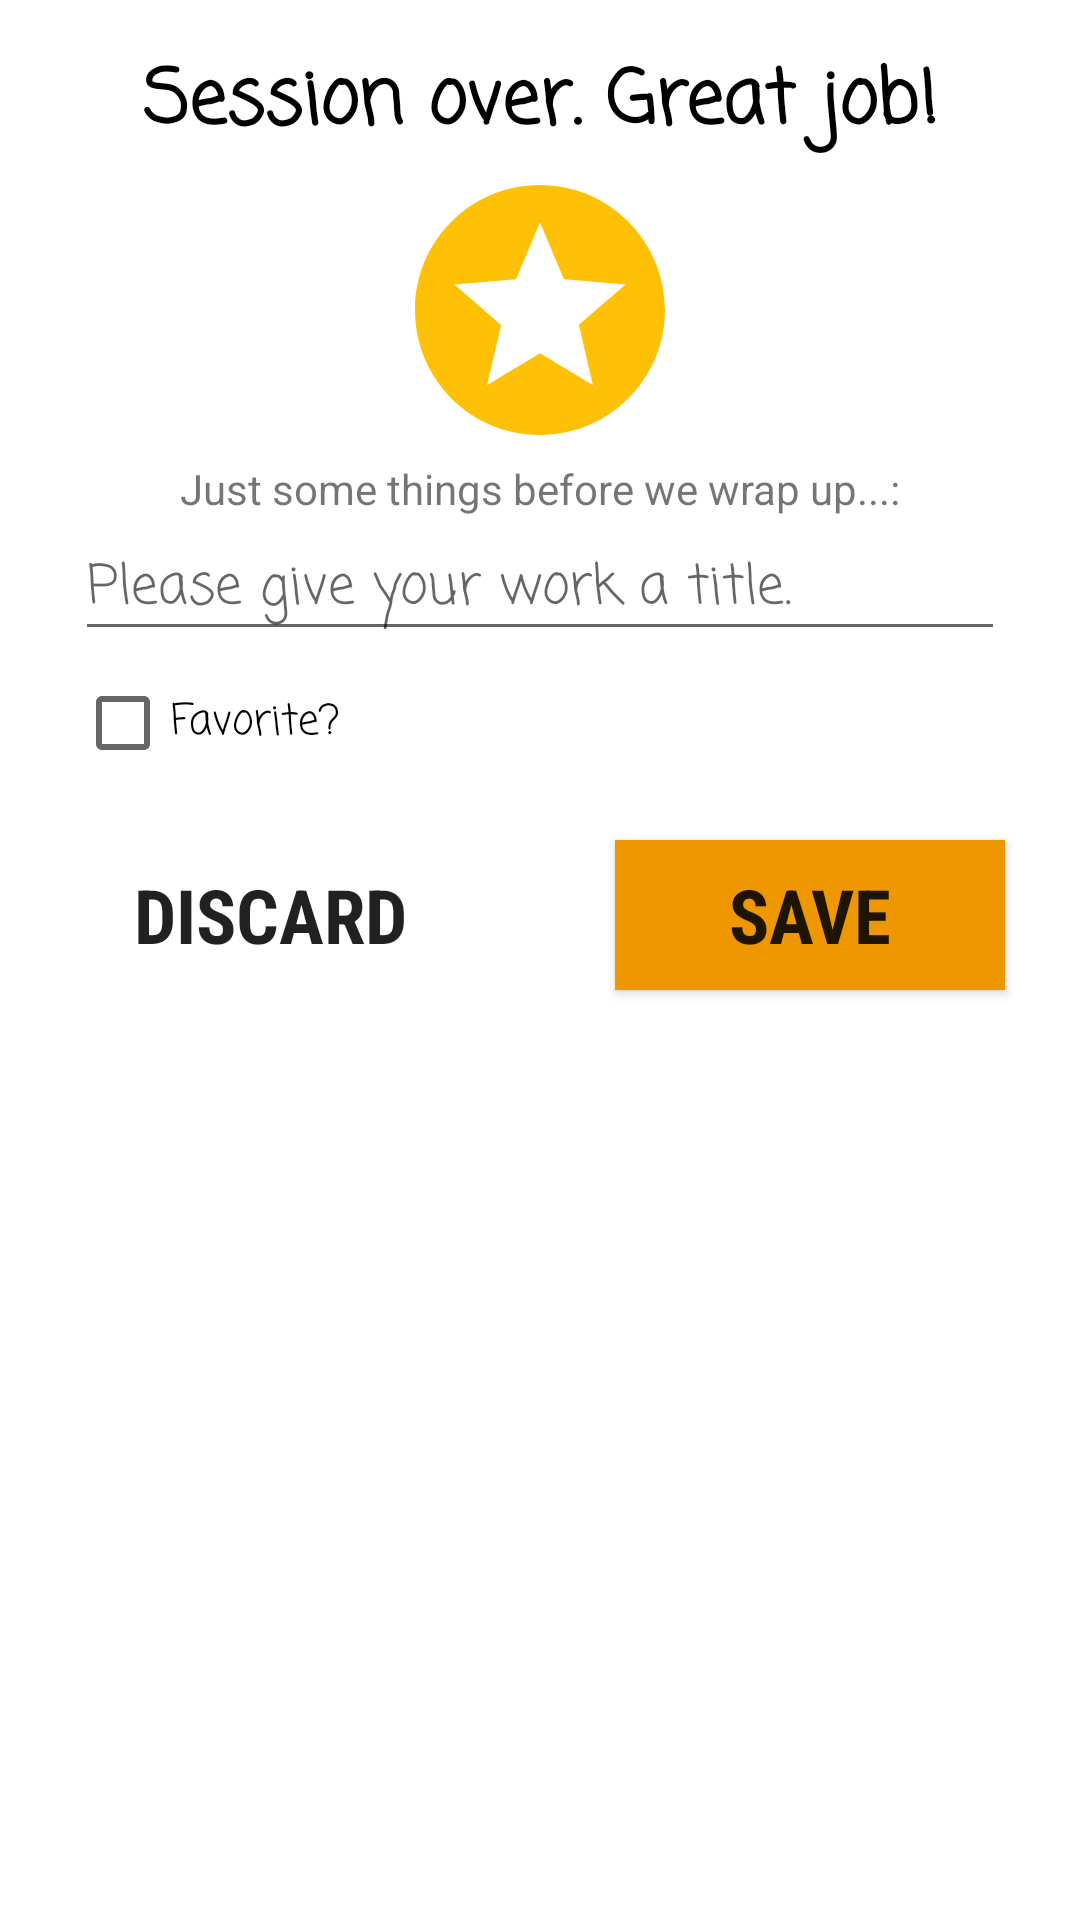

Icons on this 1080 x 1920 Android screen, each with its box as Rect(x1, y1, x2, y2):
complete star: Rect(415, 185, 665, 435)
